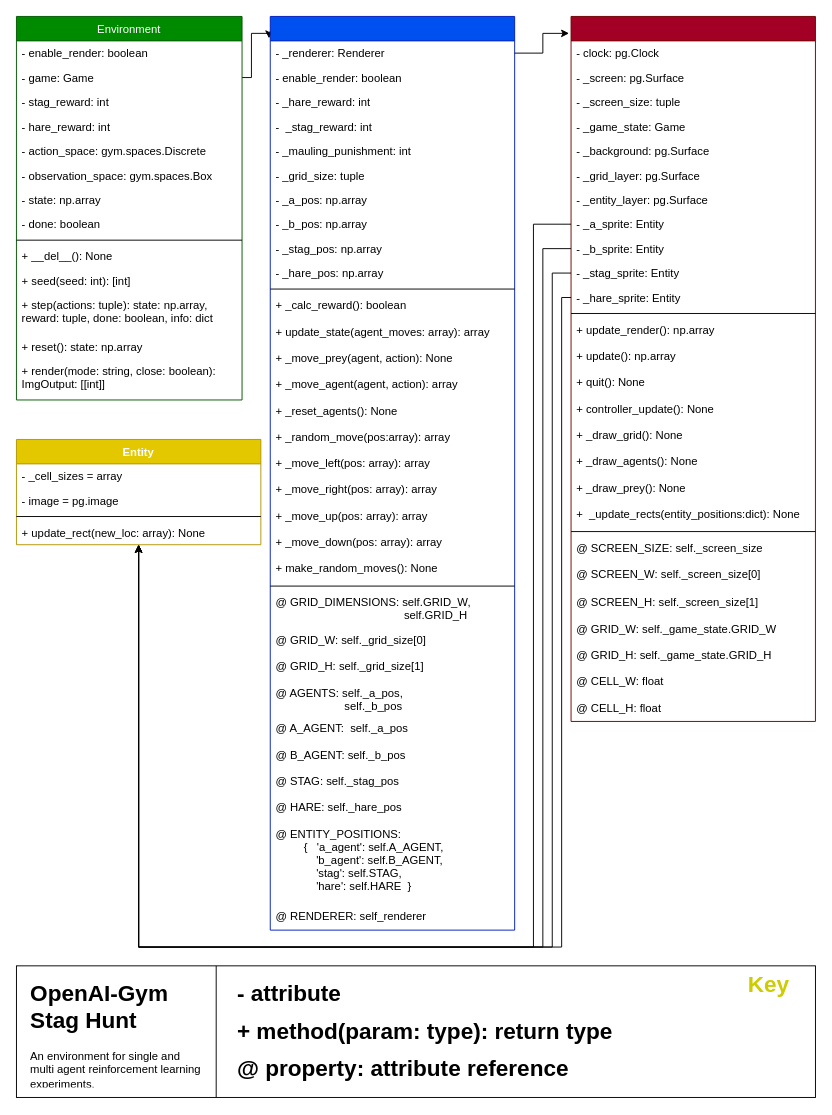
Image size: 832x1115. Some labels were removed from this diagram. The box of each missing label's shape, as (x1, y1, x2, y2) in pixels:
Game: (269, 16, 515, 930)
Renderer: (570, 16, 815, 721)
